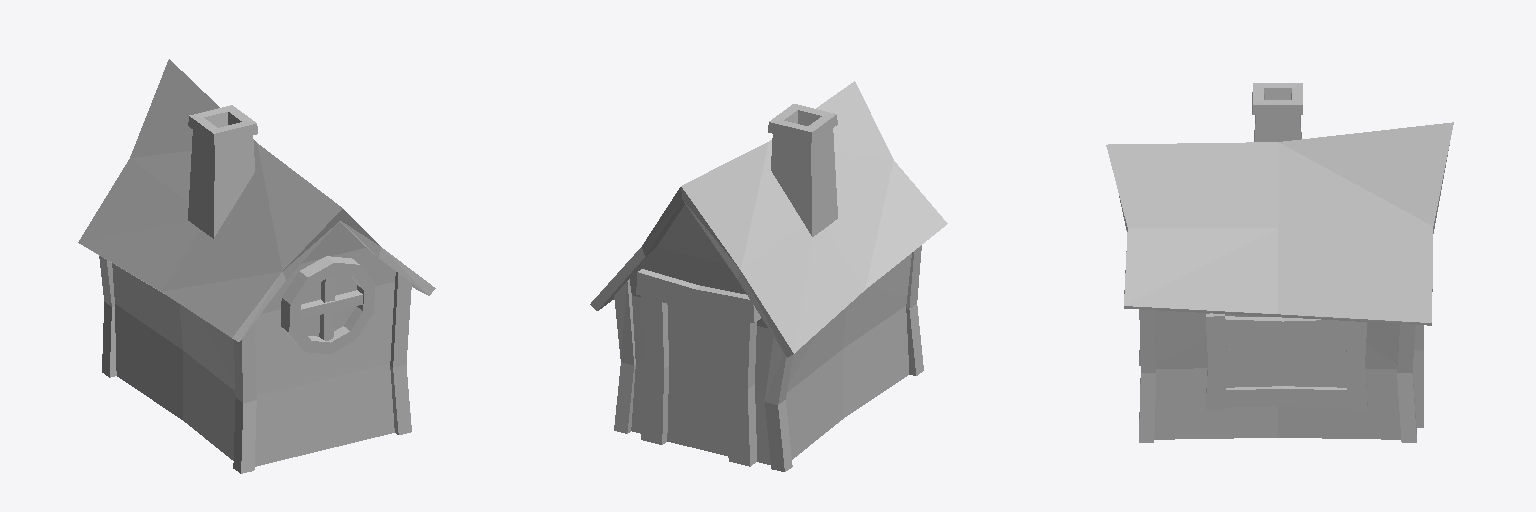
The model's file is House.obj.
The picture shows the model from 3 angles: view 1: azimuth 30°, elevation 25°; view 2: azimuth 150°, elevation 25°; view 3: azimuth 270°, elevation 25°; orthographic projection.
Visible parts, largest first — view 1: House; view 2: House; view 3: House.
Part boxes in pixels (left/top/right/bottom): House: left=78, top=59, right=435, bottom=473; House: left=590, top=81, right=947, bottom=471; House: left=1106, top=83, right=1453, bottom=442.
Size of the model in its own units: 7.53 by 10.27 by 11.13.